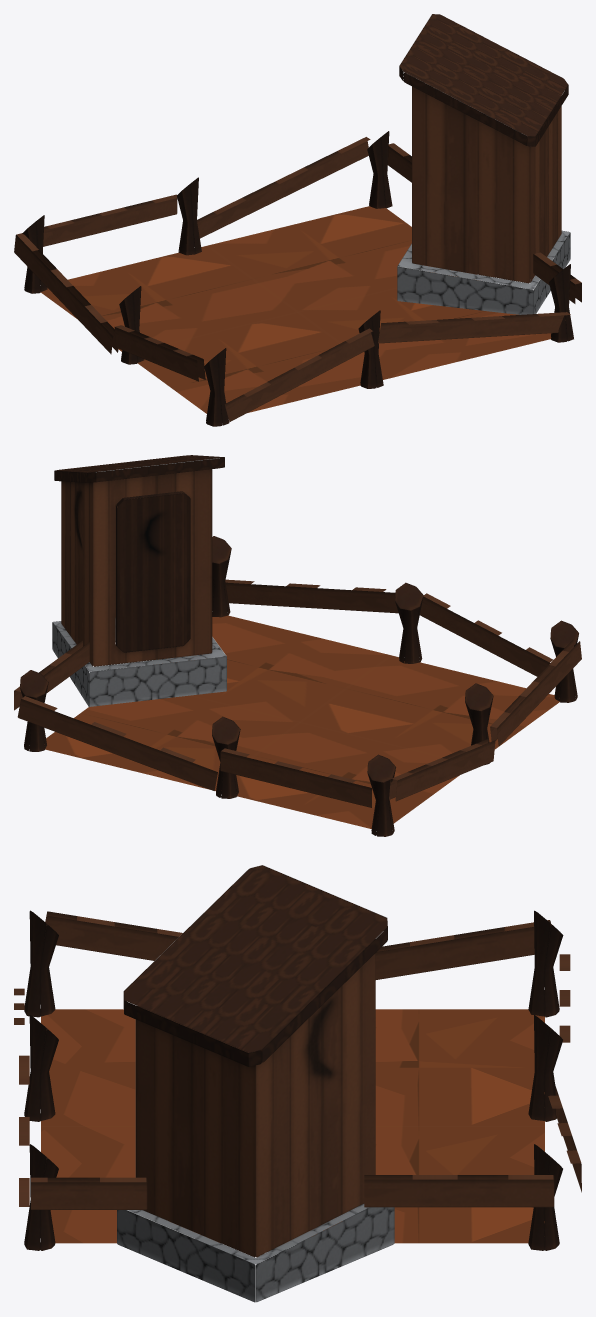
Rendered from HD_Build_Harvester_CropBarn_3x2_Mesh001.FBX.
3 views of the same model, one above another, from view 1: azimuth 30°, elevation 25°; view 2: azimuth 150°, elevation 25°; view 3: azimuth 270°, elevation 25° (orthographic). The views are drawn at different scales.
Parts seen in each view (by area): view 1: HD_Build_Harwester_CropGatherer_lvl003; view 2: HD_Build_Harwester_CropGatherer_lvl003; view 3: HD_Build_Harwester_CropGatherer_lvl003.
Part boxes in pixels (bbox=[...]): HD_Build_Harwester_CropGatherer_lvl003: bbox=[14, 14, 581, 426]; HD_Build_Harwester_CropGatherer_lvl003: bbox=[14, 455, 581, 836]; HD_Build_Harwester_CropGatherer_lvl003: bbox=[14, 865, 581, 1302].
Size of the model in its own units: 236 by 117 by 186.
2 materials, 2 textured.
